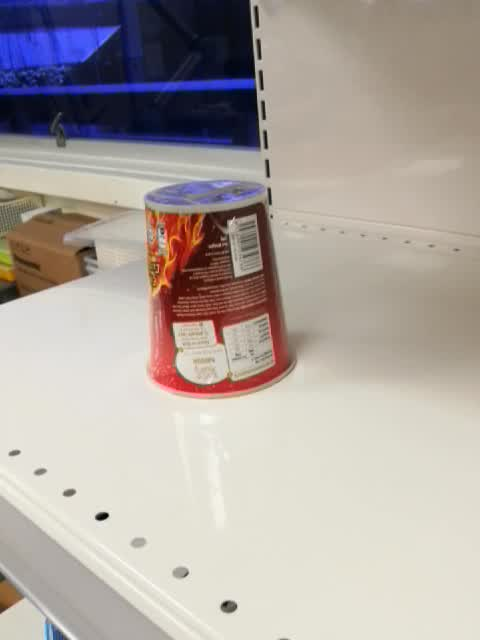maggi: (145, 179, 297, 400)
